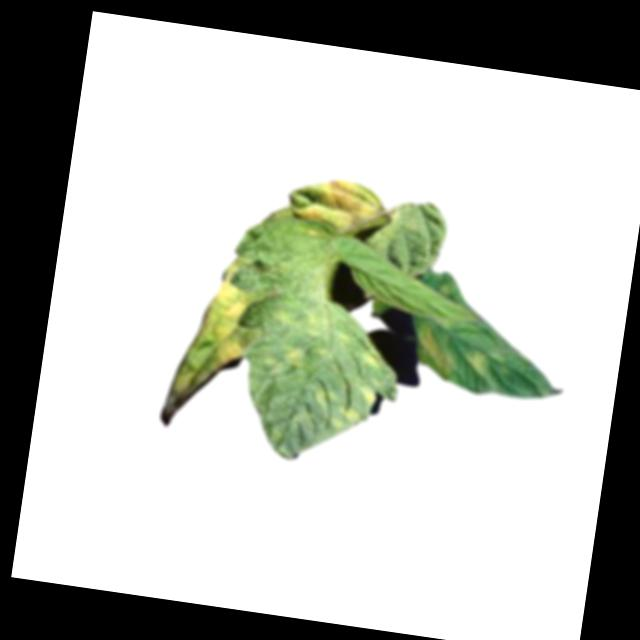Leaf_Mold: (236, 288, 394, 471), (170, 250, 259, 407), (294, 172, 388, 241), (413, 324, 461, 386), (467, 345, 492, 377)
